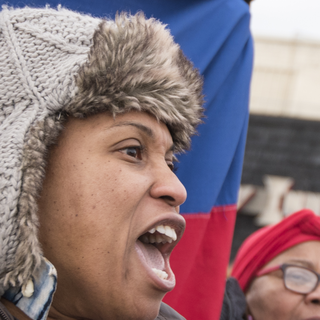eye: (107, 139, 151, 165)
